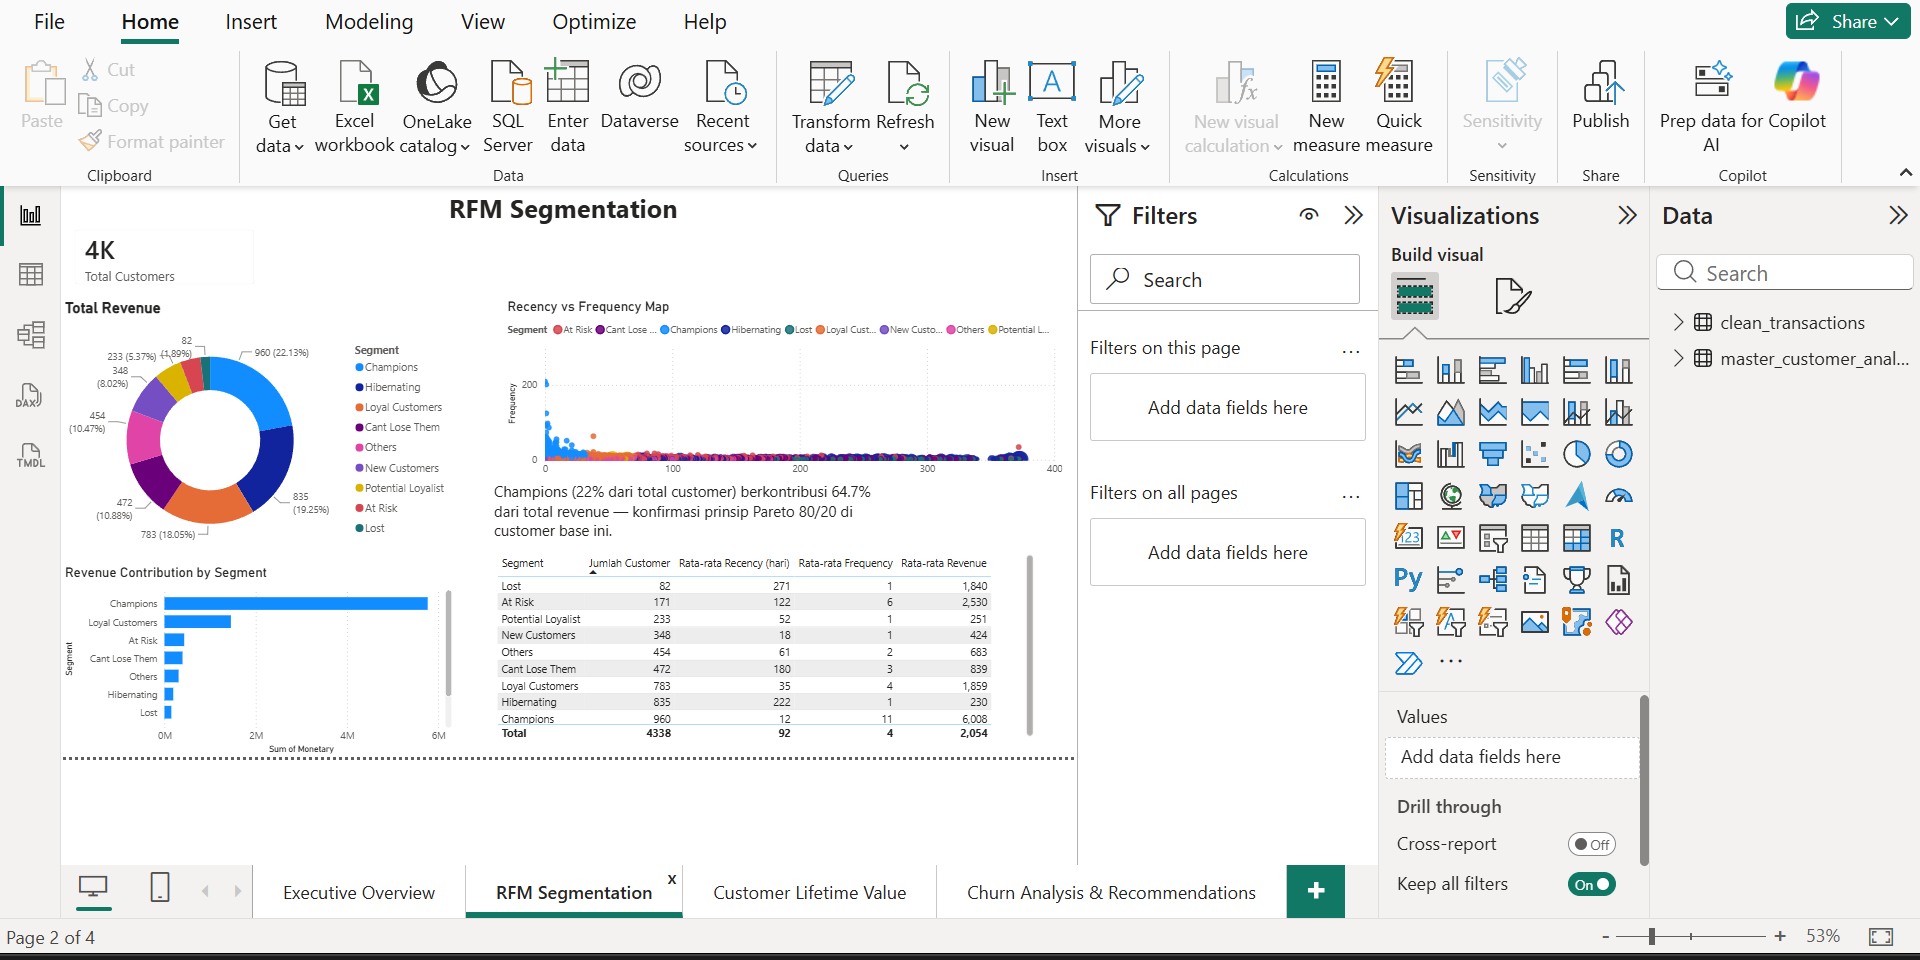

The page's visual inventory and layout, read from the dashboard file:
{"tool":"powerbi","page":{"name":"RFM Segmentation","canvas":[1280,720],"ordinal":1},"visuals":[{"type":"textbox","box":[483.8,0,313.7,73.7],"z":0},{"type":"cardVisual","fields":{"Data":["master_customer_analytics.Total Customers"]},"box":[0,37.8,260.8,103.9],"z":1000},{"type":"donutChart","title":"Total Revenue","fields":{"Category":["master_customer_analytics.Segment"],"Y":["CountNonNull(master_customer_analytics.Monetary)"]},"box":[0,141.7,497,334.5],"z":2000},{"type":"clusteredBarChart","title":"Revenue Contribution by Segment","fields":{"Category":["master_customer_analytics.Segment"],"Y":["Sum(master_customer_analytics.Monetary)"]},"box":[0,476.2,497,243.8],"z":3000},{"type":"scatterChart","title":"Recency vs Frequency Map","fields":{"X":["master_customer_analytics.Recency"],"Y":["master_customer_analytics.Frequency"],"Size":["CountNonNull(master_customer_analytics.Monetary)"],"Series":["master_customer_analytics.Segment"]},"box":[557.5,141.7,708.7,241.9],"z":4000},{"type":"tableEx","fields":{"Values":["master_customer_analytics.Segment","master_customer_analytics.CustomerID","master_customer_analytics.Recency","master_customer_analytics.Frequency","master_customer_analytics.Monetary"]},"box":[544.3,459.2,686,243.8],"z":5000},{"type":"textbox","box":[540.5,366.6,514,92.6],"z":6000}]}

Visuals, with their boxes on the page's 1280x720 design canvas (x1, y1, x2, y2). These are canvas units, not pixel positions in the 1920x960 screenshot, which may show the page scaled, cropped or inside an application window:
textbox: bbox(484, 0, 798, 74)
cardVisual - master_customer_analytics.Total Customers: bbox(0, 38, 261, 142)
"Total Revenue" donutChart: bbox(0, 142, 497, 476)
"Revenue Contribution by Segment" clusteredBarChart: bbox(0, 476, 497, 720)
"Recency vs Frequency Map" scatterChart: bbox(558, 142, 1266, 384)
tableEx - master_customer_analytics.Segment x master_customer_analytics.CustomerID: bbox(544, 459, 1230, 703)
textbox: bbox(540, 367, 1054, 459)
